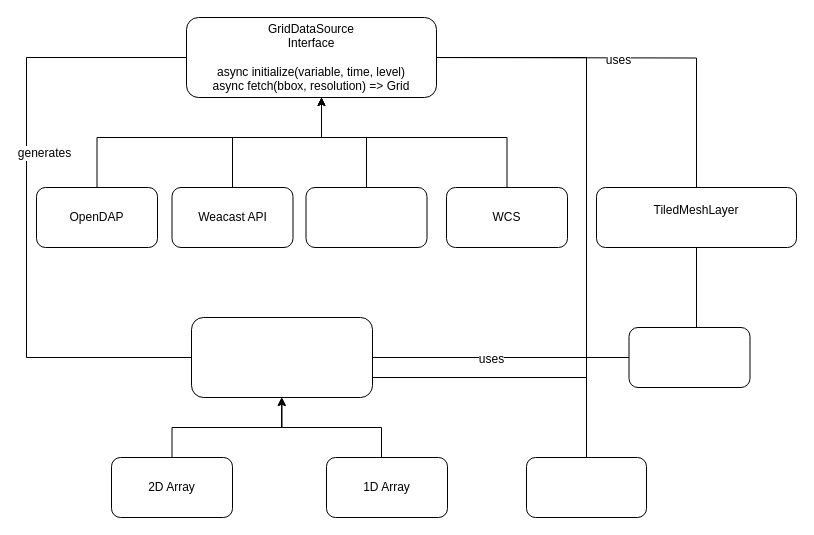
This 814x535 diagram has some shape labels left out. The shapes that lost their labels are listed below. From the top down, each one's centre as x and y in pixels, then its label:
At (x=366, y=217): "HTTP".
At (x=281, y=357): "Grid Interface getValue(lat, lon) getValue(i, j)".
At (x=689, y=357): "MeshBuilder".
At (x=586, y=487): "TiledFlowLayer".
